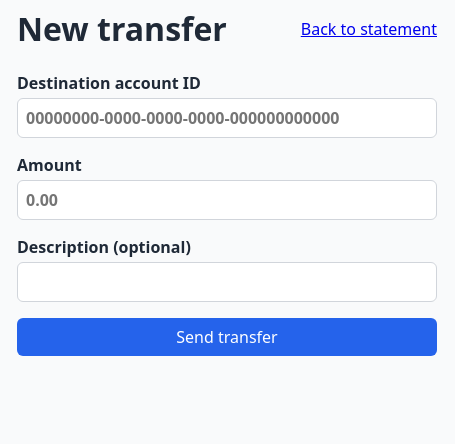
Test: TransferPage › rejects invalid amounts client-side
Type "11111111-1111-4111-8111-111111111111" into the field labelled "Destination account ID" at [227, 118], box [17,98,437,138]
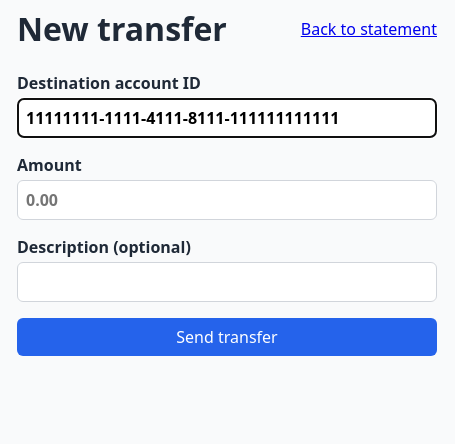
Type "abc" into the field labelled "Amount" at [227, 200], box [17,180,437,220]
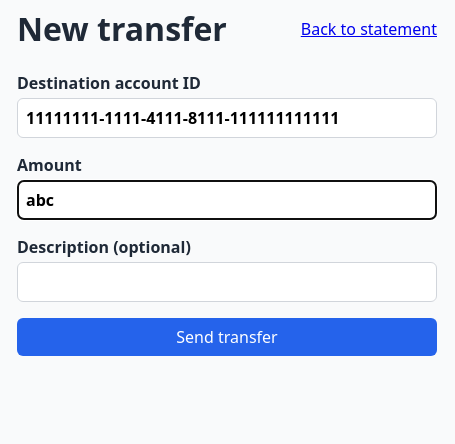
Click the button "Send transfer" at [227, 337], box [17,318,437,356]
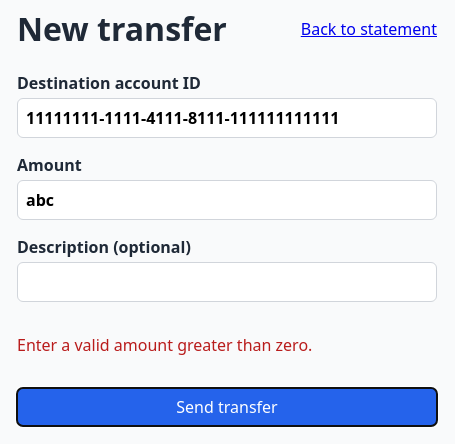
Result: the message shows "valid amount" at [17,334,312,356]
